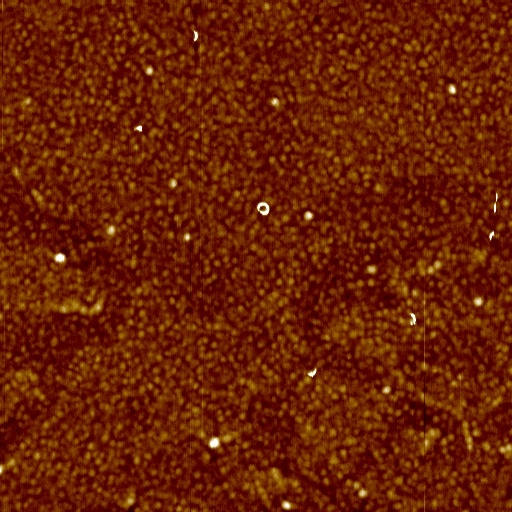-1: (209, 436, 224, 450), (278, 499, 293, 511), (444, 84, 457, 95), (301, 211, 313, 222), (472, 295, 485, 305), (53, 254, 67, 263), (133, 126, 143, 133)
1/4: (491, 190, 500, 214), (305, 366, 318, 380), (189, 28, 200, 44), (409, 309, 417, 330), (485, 229, 497, 242)
4/4: (254, 200, 271, 218)
